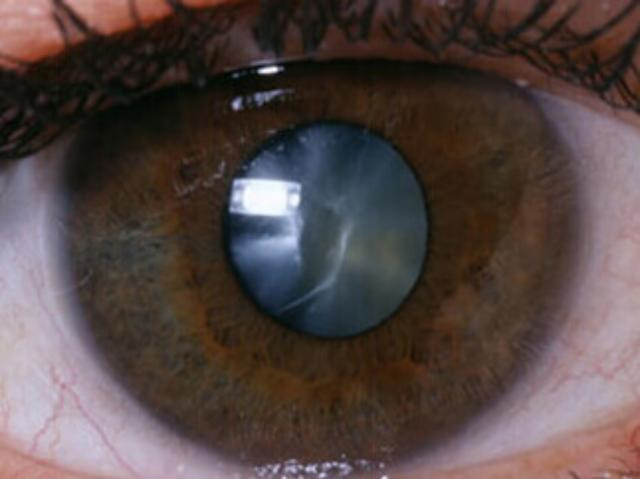eye: (51, 49, 588, 469)
